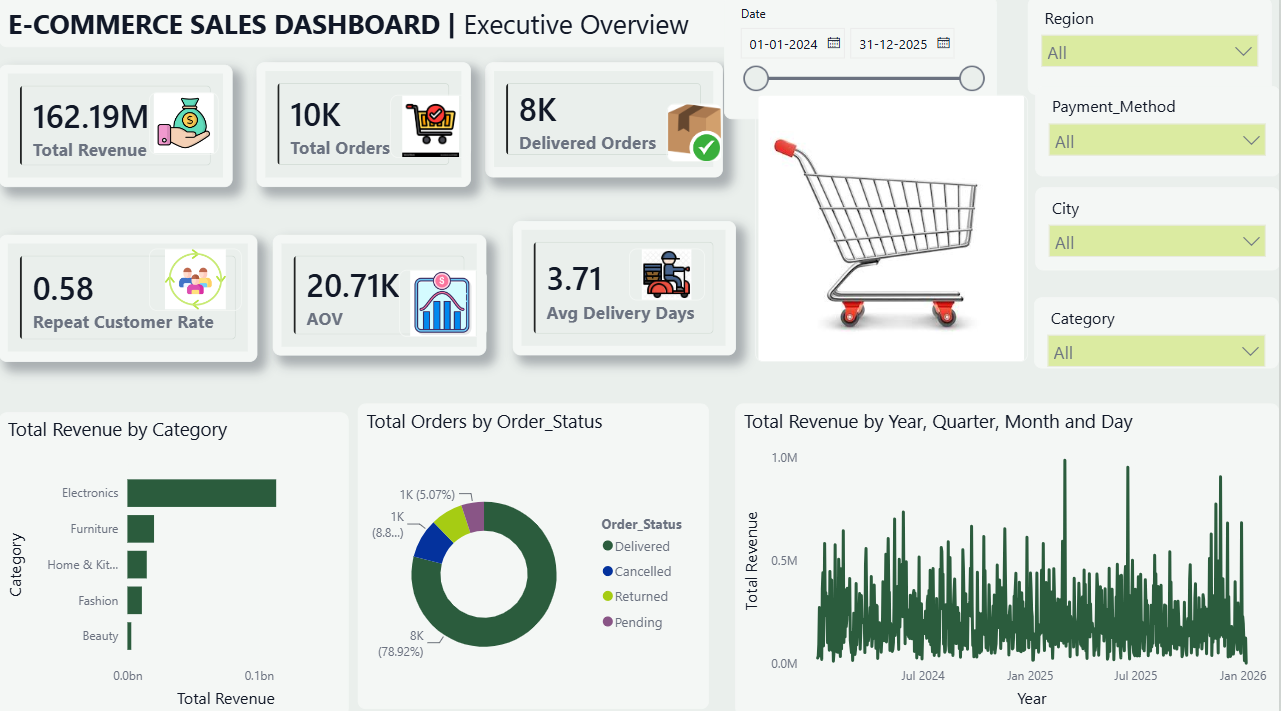

This screenshot's page, from the dashboard's own definition file:
{"tool":"powerbi","page":{"name":"Executive_KPIs","canvas":[1280,720],"ordinal":0},"visuals":[{"type":"cardVisual","fields":{"Data":["Clean_Data.Total Revenue"]},"box":[0,68.6,233.3,122.1],"z":0},{"type":"cardVisual","fields":{"Data":["Clean_Data.Delivered Orders"]},"box":[486.7,66,237.2,114.9],"z":1000},{"type":"cardVisual","fields":{"Data":["Clean_Data.Average Delivery Days"]},"box":[513.6,225,222.9,134.3],"z":2000},{"type":"cardVisual","fields":{"Data":["Clean_Data.Repeat Customer Rate"]},"box":[0,238.2,258.3,126.9],"z":3000},{"type":"cardVisual","fields":{"Data":["Clean_Data.AOV"]},"box":[273.9,238.5,214,121.1],"z":4000},{"type":"cardVisual","fields":{"Data":["Clean_Data.Total Orders"]},"box":[258,65.9,214.1,124.9],"z":5000},{"type":"textbox","box":[0,0,815.6,51.4],"z":6000},{"type":"barChart","fields":{"Category":["Clean_Data.Category"],"Y":["Clean_Data.Total Revenue"]},"box":[0,415.8,349.7,304.5],"z":7000},{"type":"lineChart","fields":{"Y":["Clean_Data.Total Revenue"],"Category":["Clean_Data.Delivery_Date.Variation.Date Hierarchy.Year","Clean_Data.Delivery_Date.Variation.Date Hierarchy.Quarter","Clean_Data.Delivery_Date.Variation.Date Hierarchy.Month","Clean_Data.Delivery_Date.Variation.Date Hierarchy.Day"]},"box":[736.1,407.2,544.2,313],"z":8000},{"type":"donutChart","fields":{"Category":["Clean_Data.Order_Status"],"Y":["Clean_Data.Total Orders"]},"box":[358.3,407.2,351,305.7],"z":9000},{"type":"slicer","fields":{"Values":["Clean_Data.Region"]},"box":[1029.2,1.4,244.3,97.4],"z":10000},{"type":"slicer","fields":{"Values":["Clean_Data.City"]},"box":[1035.7,190.8,244.6,83.2],"z":11000},{"type":"slicer","fields":{"Values":["Clean_Data.Category"]},"box":[1035.3,301.7,244.9,71.2],"z":12000},{"type":"slicer","fields":{"Values":["Clean_Data.Payment_Method"]},"box":[1035.7,90.5,244.6,90.5],"z":13000},{"type":"slicer","fields":{"Values":["DateTable.Date"]},"box":[724.5,0,273.1,123.5],"z":14000},{"type":"image","box":[756.1,98.8,273.1,267.6],"z":15000},{"type":"image","box":[391.3,99,80.7,63.6],"z":16000},{"type":"image","box":[150.4,96.6,69.7,62.4],"z":17000},{"type":"image","box":[667.7,107.6,56.3,58.7],"z":18000},{"type":"image","box":[150.4,251.9,92.9,62.4],"z":19000},{"type":"image","box":[630,252.1,75.7,52.1],"z":20000},{"type":"image","box":[399.9,273.9,88,67.3],"z":21000}]}

Visuals, with their boxes in screenshot pixels (x1, y1, x2, y2), scaled from the page's 1280x720 canvas onto the 1281x711 screenshot:
cardVisual - Clean_Data.Total Revenue: x1=0 y1=68 x2=233 y2=188
cardVisual - Clean_Data.Delivered Orders: x1=487 y1=65 x2=724 y2=179
cardVisual - Clean_Data.Average Delivery Days: x1=514 y1=222 x2=737 y2=355
cardVisual - Clean_Data.Repeat Customer Rate: x1=0 y1=235 x2=259 y2=361
cardVisual - Clean_Data.AOV: x1=274 y1=236 x2=488 y2=355
cardVisual - Clean_Data.Total Orders: x1=258 y1=65 x2=472 y2=188
textbox: x1=0 y1=0 x2=816 y2=51
barChart - Clean_Data.Category x Clean_Data.Total Revenue: x1=0 y1=411 x2=350 y2=710
lineChart - Clean_Data.Total Revenue x Clean_Data.Delivery_Date.Variation.Date Hierarchy.Year: x1=737 y1=402 x2=1280 y2=710
donutChart - Clean_Data.Order_Status x Clean_Data.Total Orders: x1=359 y1=402 x2=710 y2=704
slicer - Clean_Data.Region: x1=1030 y1=1 x2=1274 y2=98
slicer - Clean_Data.City: x1=1037 y1=188 x2=1280 y2=271
slicer - Clean_Data.Category: x1=1036 y1=298 x2=1280 y2=368
slicer - Clean_Data.Payment_Method: x1=1037 y1=89 x2=1280 y2=179
slicer - DateTable.Date: x1=725 y1=0 x2=998 y2=122
image: x1=757 y1=98 x2=1030 y2=362
image: x1=392 y1=98 x2=472 y2=161
image: x1=151 y1=95 x2=220 y2=157
image: x1=668 y1=106 x2=725 y2=164
image: x1=151 y1=249 x2=243 y2=310
image: x1=630 y1=249 x2=706 y2=300
image: x1=400 y1=270 x2=488 y2=337
